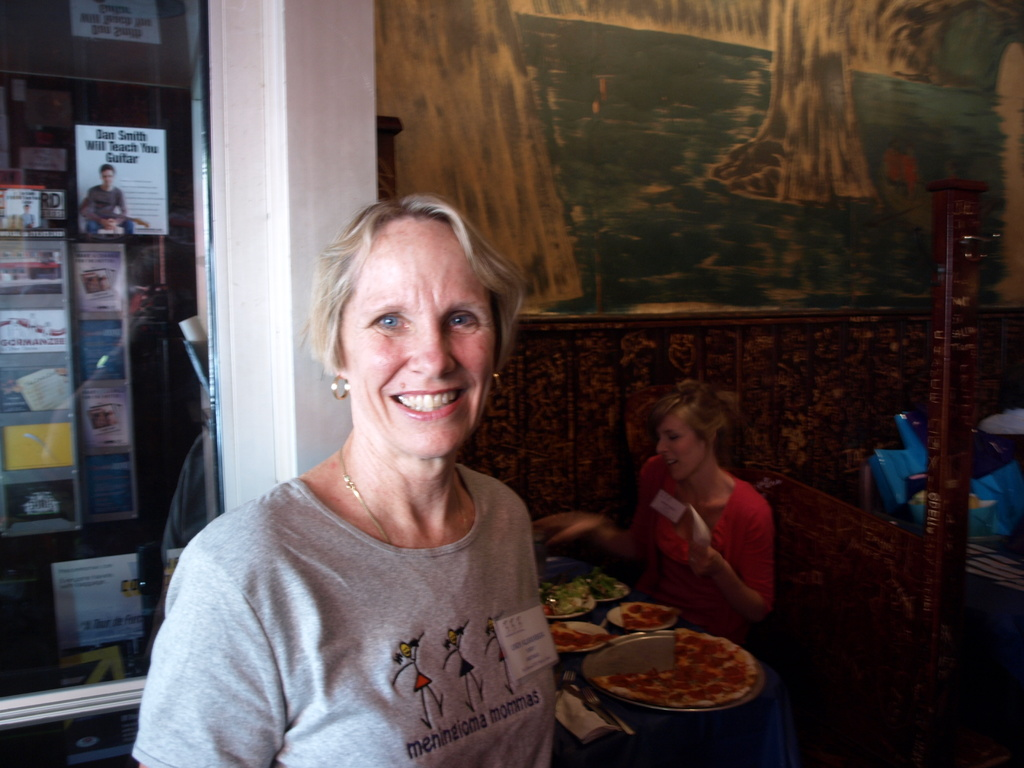Pizza: (682, 625, 736, 676), (551, 577, 618, 613), (681, 675, 744, 704), (559, 625, 616, 655), (611, 677, 670, 704)
